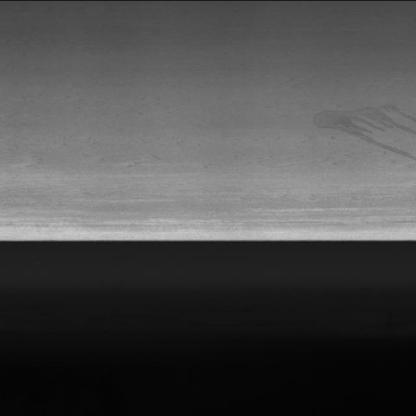water_spot: (307, 90, 416, 167)
